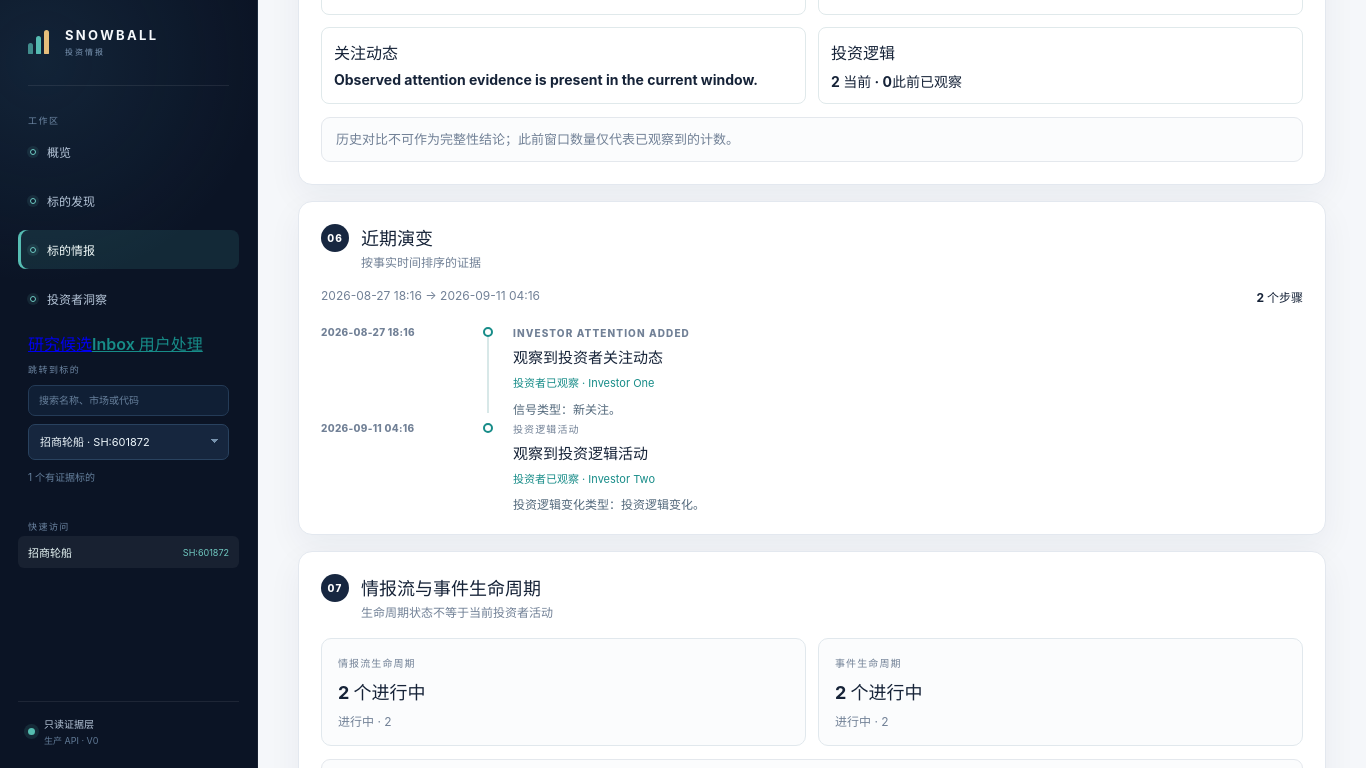
Test case: Asset Intelligence Product View V0 › navigates Asset to Investor by investor_id without prefetching another Asset view
(page scrolled)
Click the link with aria-label "打开投资者 Investor One".
click(584, 384)  # box x1=513 y1=376 x2=654 y2=392
(page scrolled)
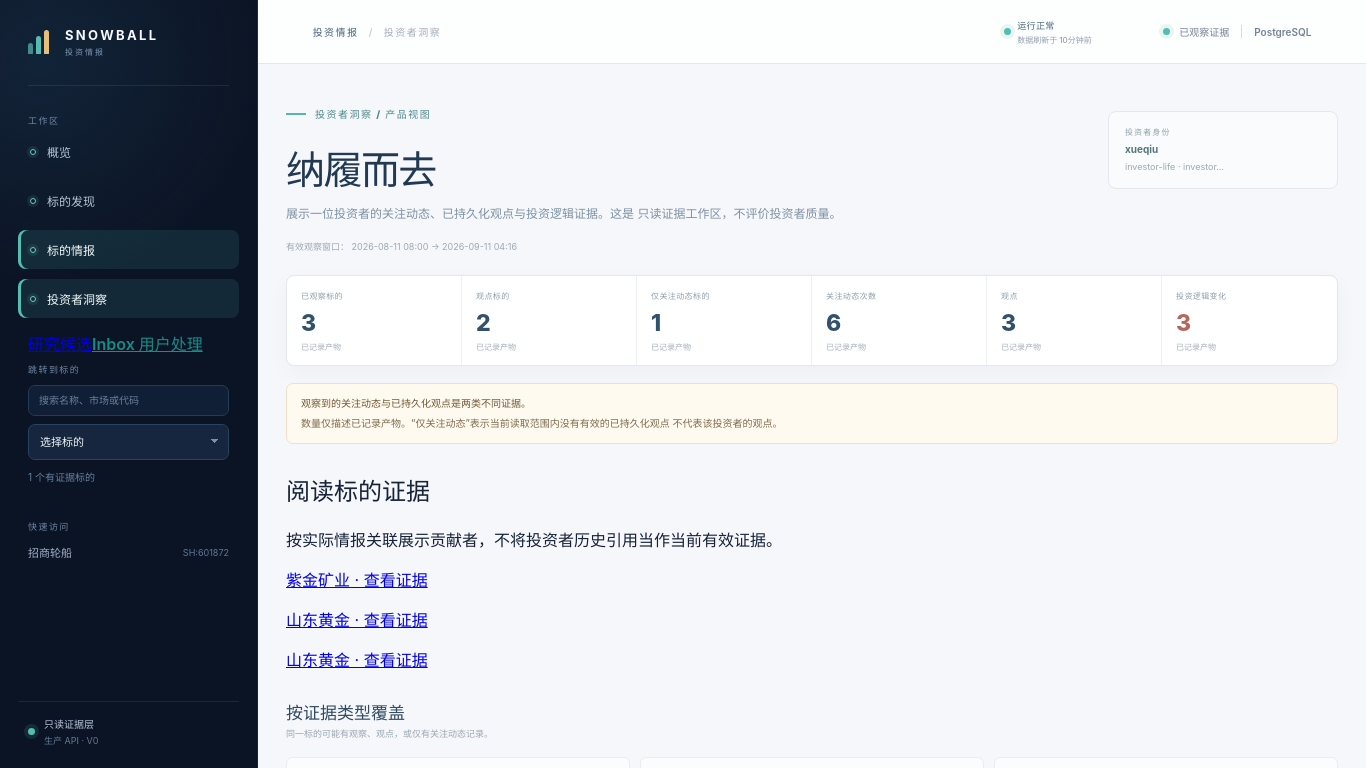
Check: the heading "纳履而去" is shown, box x1=286 y1=146 x2=436 y2=193
